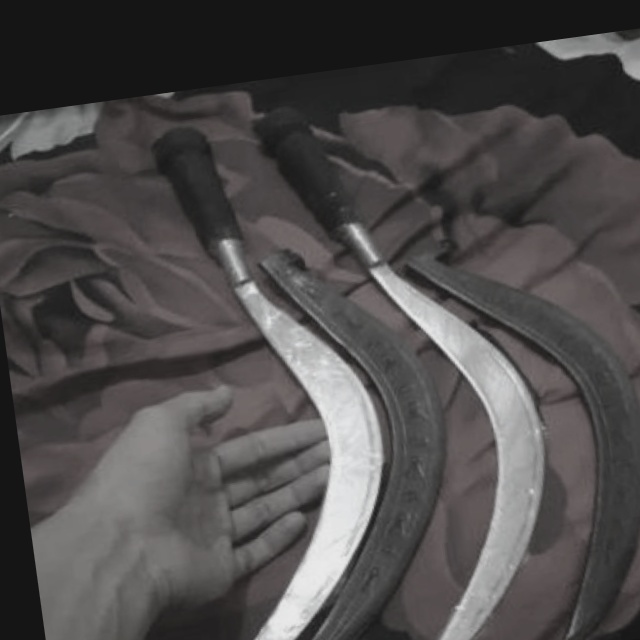Sharp-Object: (248, 63, 571, 640), (134, 74, 385, 640)
